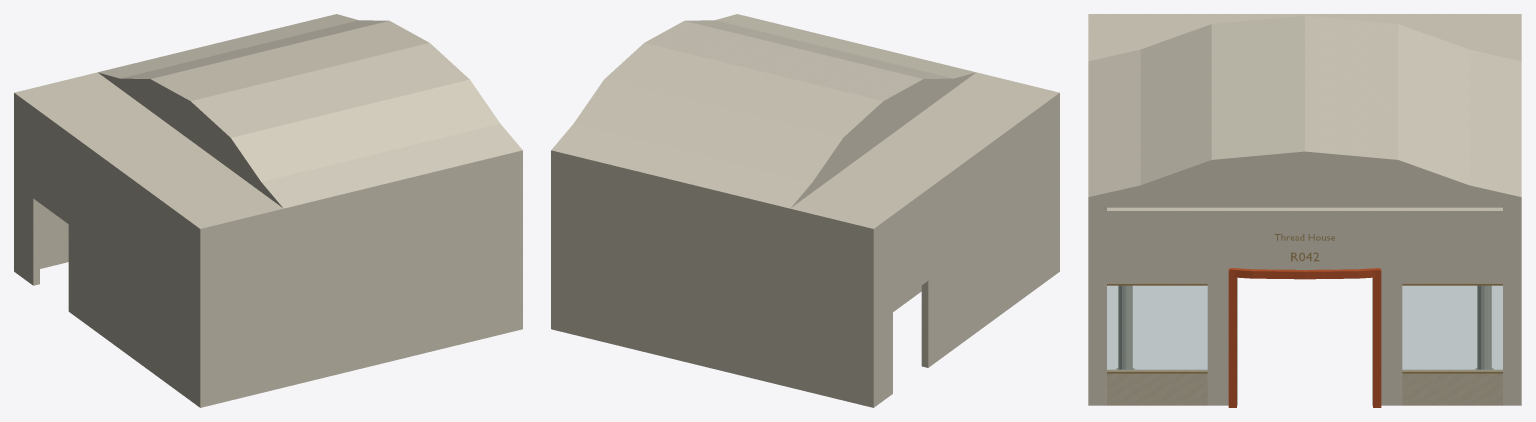
Rendered from SHOP_D09_P100_A158__shell.glb.
The picture shows the model from 3 angles, left to right: view 1: azimuth 30°, elevation 25°; view 2: azimuth 150°, elevation 25°; view 3: azimuth 270°, elevation 25°; orthographic projection. The views are drawn at different scales.
Parts seen in each view (by area): view 1: SHOP_D09_P100_A158__shell__ivory_enamel; view 2: SHOP_D09_P100_A158__shell__ivory_enamel; view 3: SHOP_D09_P100_A158__shell__ivory_enamel, SHOP_D09_P100_A158__shell__shop_glass, SHOP_D09_P100_A158__shell__warm_stone, SHOP_D09_P100_A158__shell__retail_terracotta_enamel, SHOP_D09_P100_A158__shell__champagne_metal.
Part boxes in pixels (box(x1,y1,x2,y2)): SHOP_D09_P100_A158__shell__ivory_enamel: box(14, 14, 522, 407); SHOP_D09_P100_A158__shell__ivory_enamel: box(551, 14, 1059, 407); SHOP_D09_P100_A158__shell__ivory_enamel: box(1088, 14, 1521, 405); SHOP_D09_P100_A158__shell__shop_glass: box(1107, 286, 1502, 370); SHOP_D09_P100_A158__shell__warm_stone: box(1107, 368, 1502, 405); SHOP_D09_P100_A158__shell__retail_terracotta_enamel: box(1228, 268, 1381, 407); SHOP_D09_P100_A158__shell__champagne_metal: box(1107, 234, 1502, 373).
Bounding box in the file's own units: 11.86 × 7.5 × 11.6.
6 materials, 4 textured.
